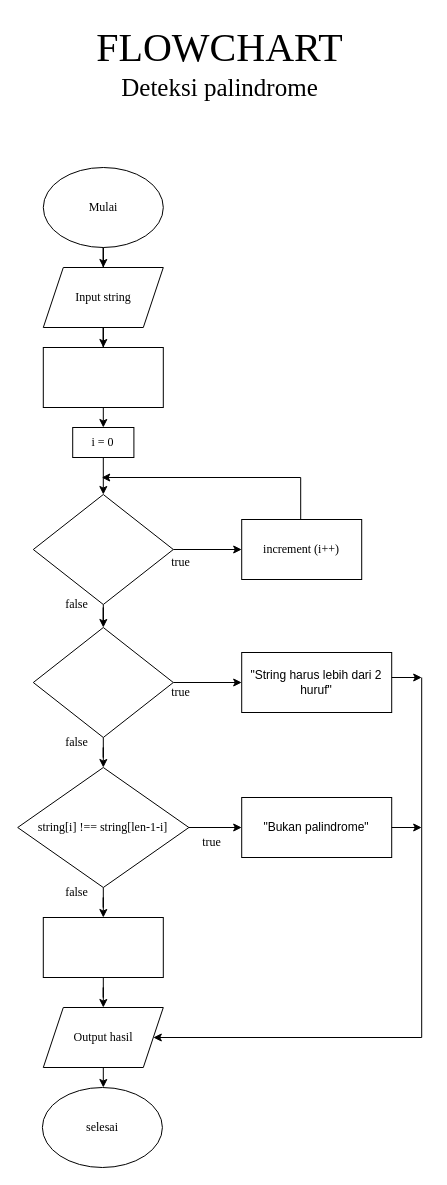
This 447x1185 diagram has some shape labels left out. Here are the shapes that lost their labels. From the top down, the centre of each, then its label:
(102,377): lowercase string
(102,549): i < string.length/2
(102,682): string.length <= 2
(102,947): "Palindrome"
